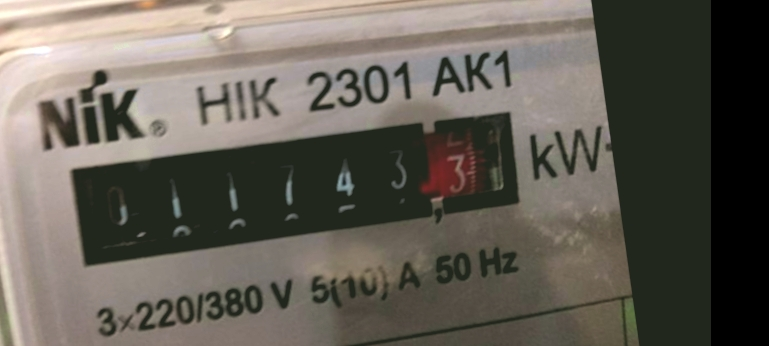0: (98, 179, 134, 229)
1: (217, 164, 245, 215), (163, 173, 186, 222)
3: (380, 143, 414, 193), (442, 149, 471, 196)
4: (327, 149, 361, 201)
7: (273, 158, 304, 209)
screen: (53, 97, 531, 278)
